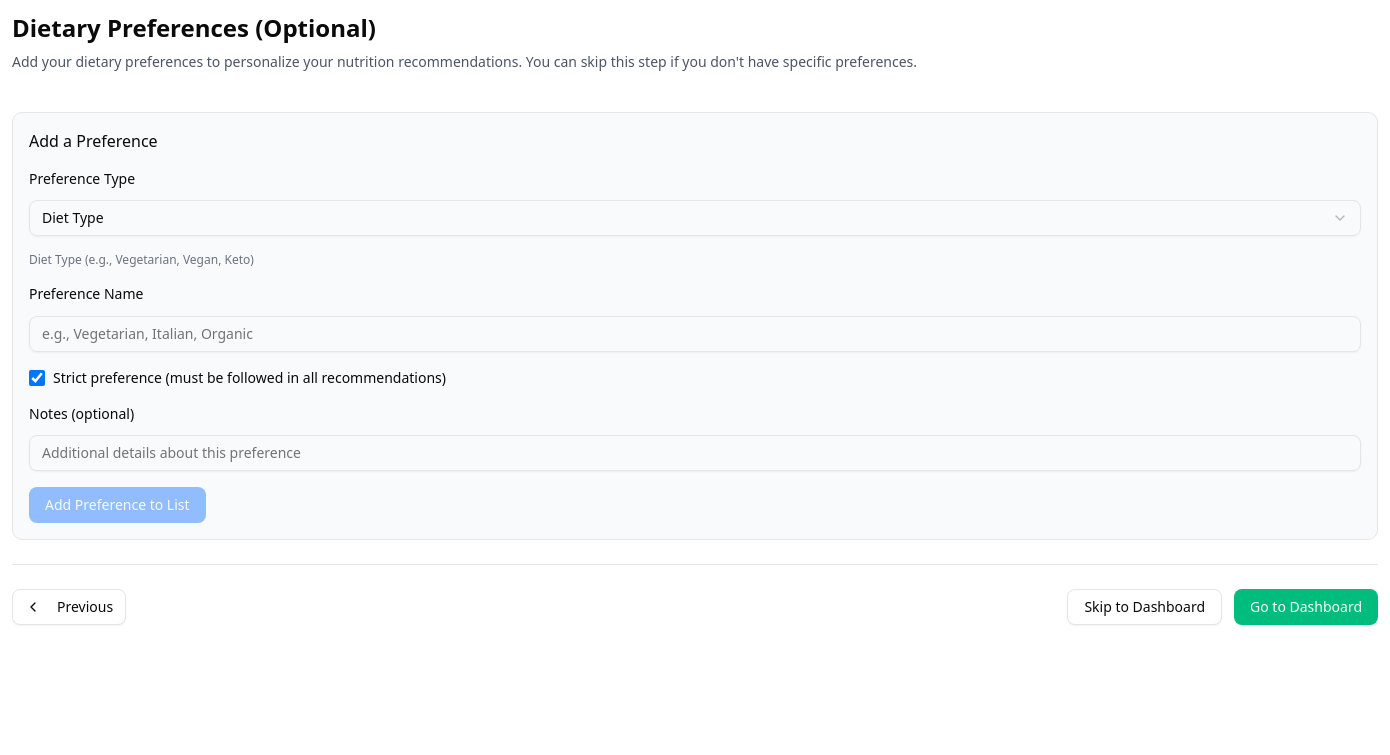
it: Step3PreferencesForm › allows adding notes to a preference
The image size is (1390, 755).
Fill in preference details
Type "Vegetarian" into the field with placeholder "e.g., Vegetarian, Italian, Organic". click: (695, 334)
box: 29,316 -> 1361,352
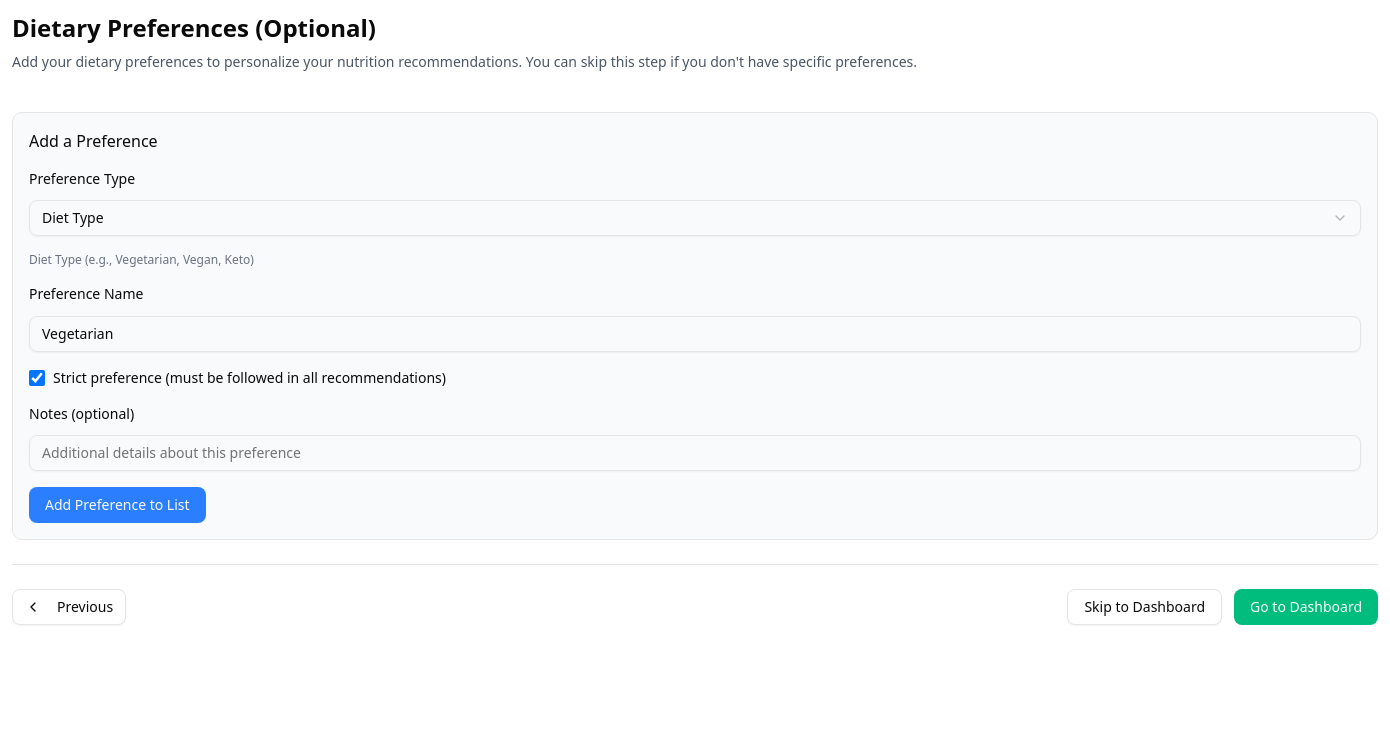
Type "No meat or fish" into the field with placeholder "Additional details about this preference". click: (695, 453)
box: 29,435 -> 1361,471
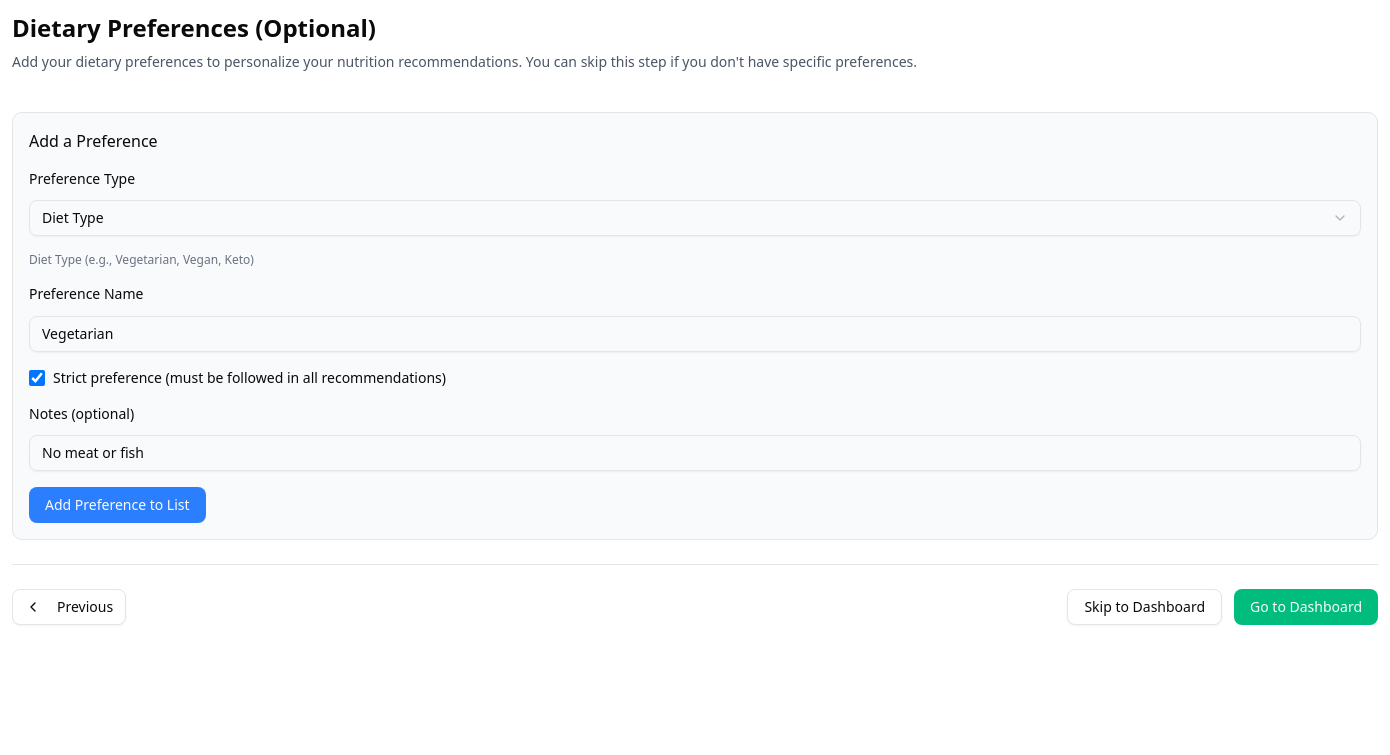
Add preference
Click the button "Add Preference to List". click: click(117, 505)
box: 29,487 -> 206,523
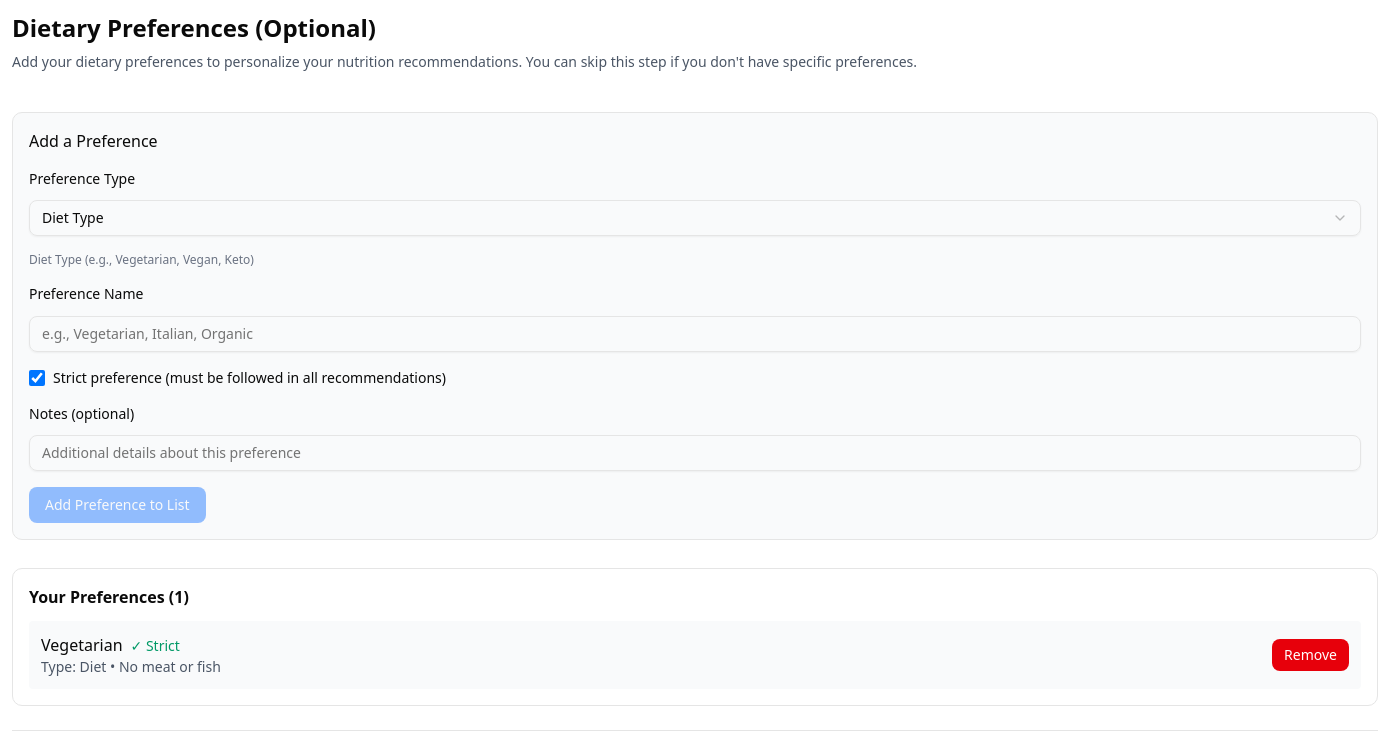
Check: the text "• No meat or fish" is shown, box 106,657 -> 221,676
